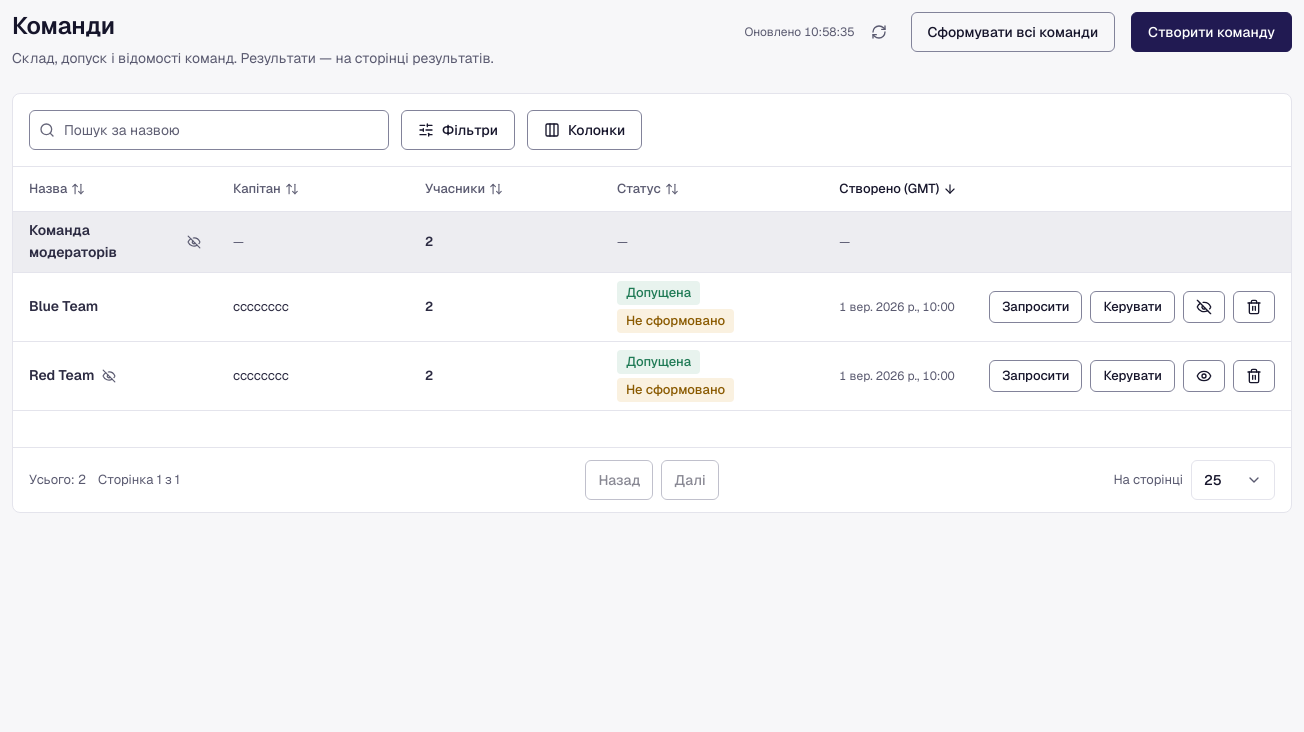
Test case: hidden teams (teams table) › locks only the team being saved while its hide request is pending
The width and height of the screenshot is (1304, 732).
Check: the text "Blue Team" is shown, box 29,296 -> 98,318
Step 1. Click the button named "Приховати команду Blue Team" → (1204, 307), box 1183,291 -> 1225,323
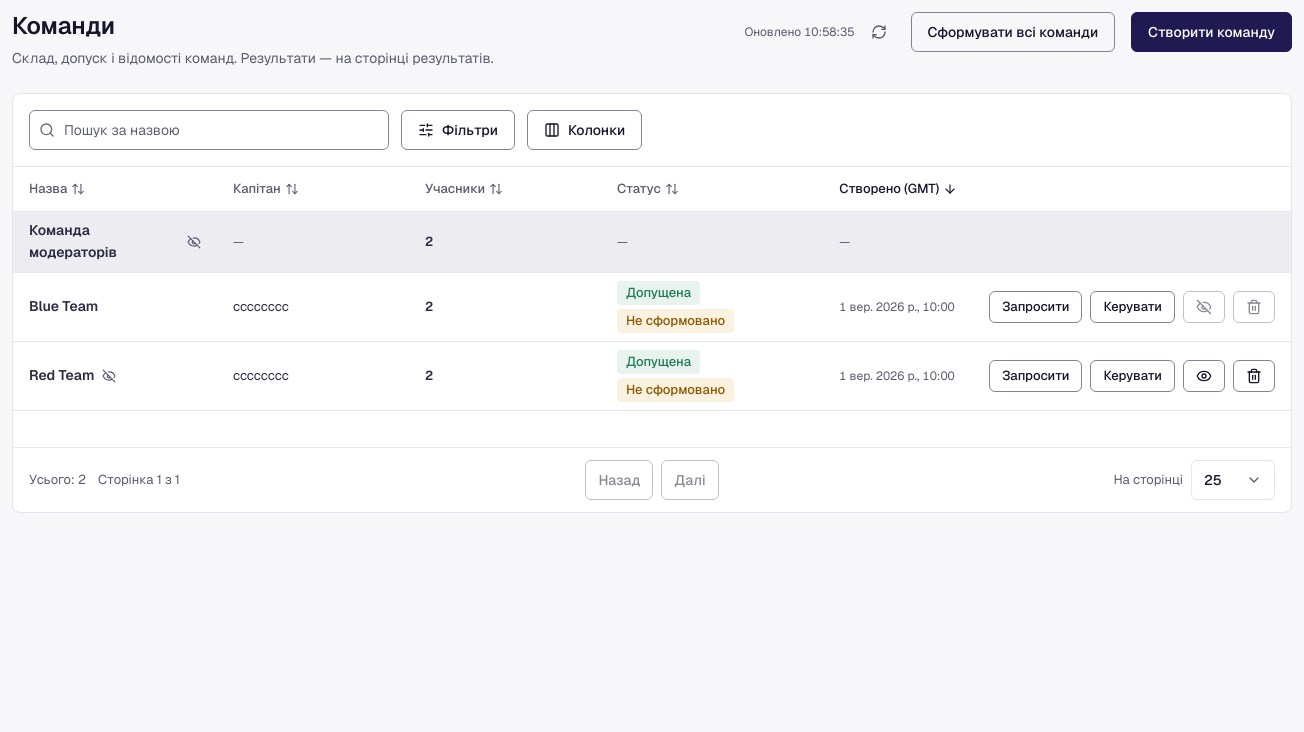
Check: the button named "Показати команду Red Team" is enabled, box 1183,360 -> 1225,392
Check: the button named "Приховати команду Blue Team" is disabled, box 1183,291 -> 1225,323
